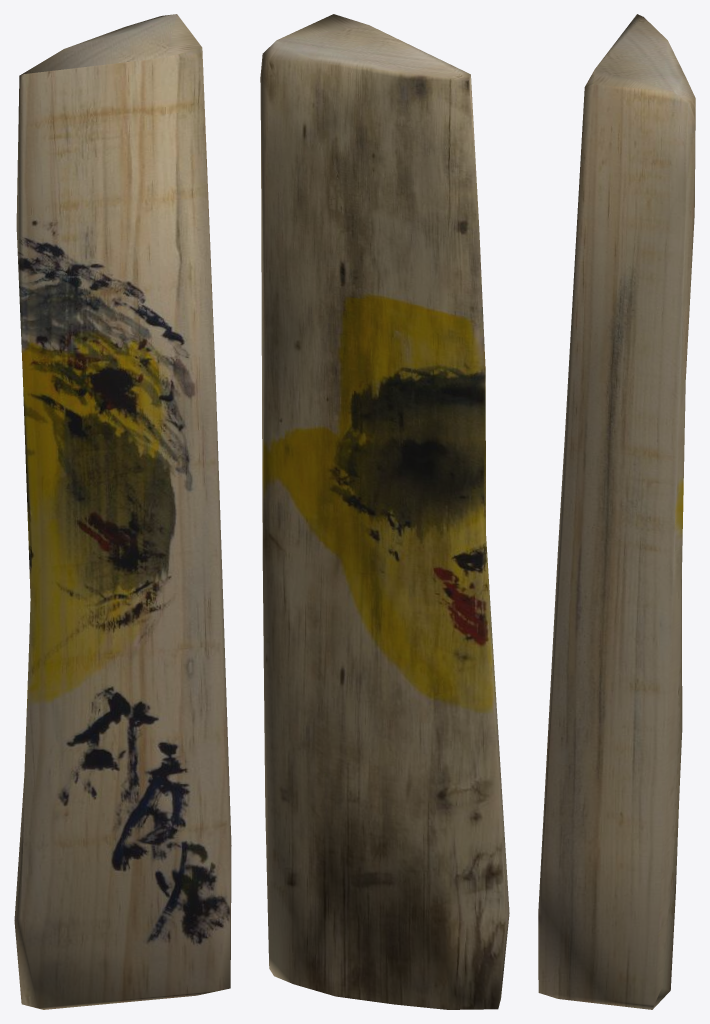
Rendered from 482_GP_PGH124.obj.
The picture shows the model from 3 angles, left to right: view 1: azimuth 30°, elevation 25°; view 2: azimuth 150°, elevation 25°; view 3: azimuth 270°, elevation 25°; orthographic projection. The views are drawn at different scales.
Parts seen in each view (by area): view 1: 482_GP_PGH124_GP_PGH124; view 2: 482_GP_PGH124_GP_PGH124; view 3: 482_GP_PGH124_GP_PGH124.
Boxes of the visible parts, bbox=[...] form: 482_GP_PGH124_GP_PGH124: bbox=[14, 14, 231, 1009]; 482_GP_PGH124_GP_PGH124: bbox=[260, 14, 509, 1009]; 482_GP_PGH124_GP_PGH124: bbox=[538, 14, 695, 1009].
Size of the model in its own units: 8.98 by 37.83 by 5.92.
Materials: 1 (1 with a texture image).
